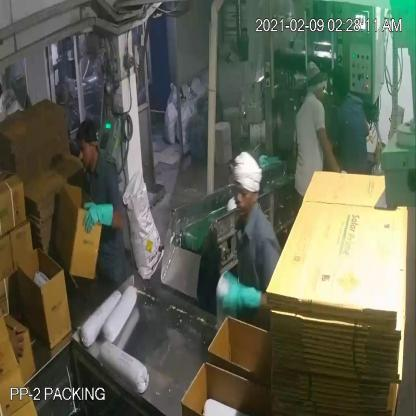glove: (216, 263, 268, 327), (75, 196, 122, 240)
no_glove: (315, 123, 346, 179), (6, 323, 26, 367)
